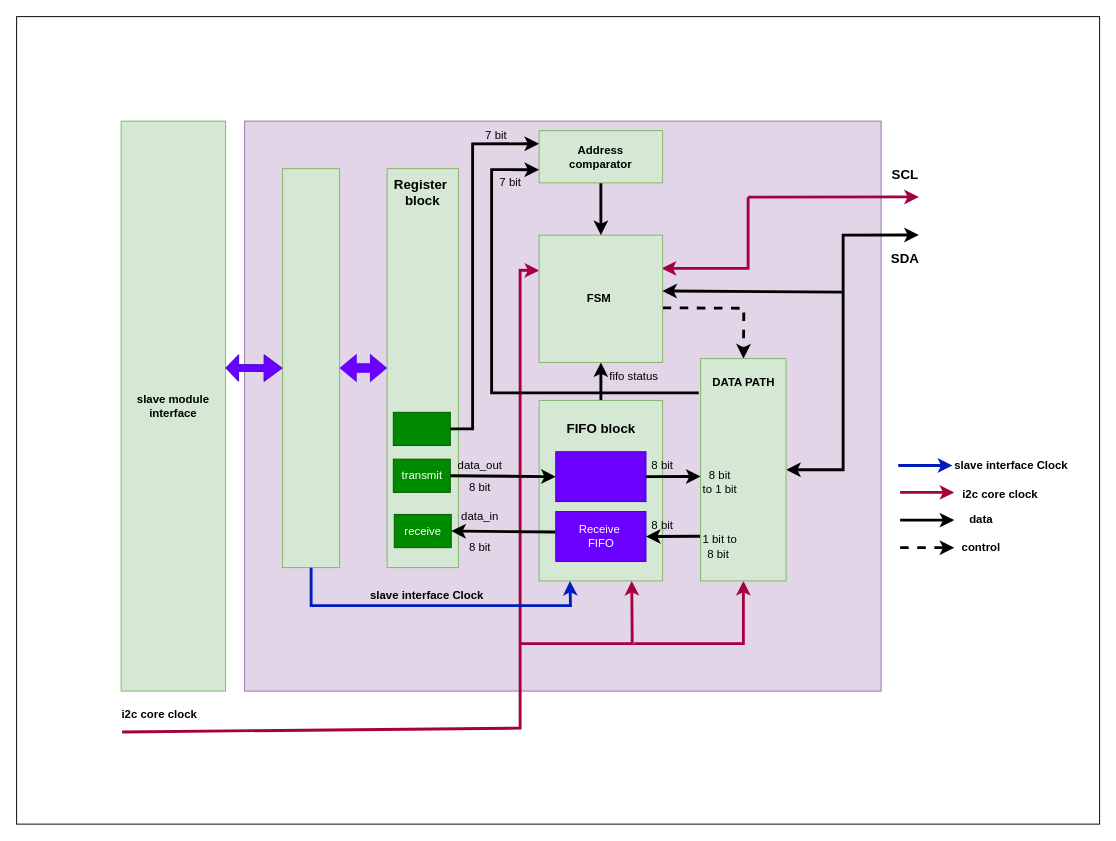
Image size: 1116x841. Some labels were removed from this diagram. The box of each missing label's shape, as (x1, y1, x2, y2) in pixels:
local address: (392, 411, 450, 446)
slave interface: (282, 168, 340, 568)
Transmit FIFO: (555, 451, 646, 502)
